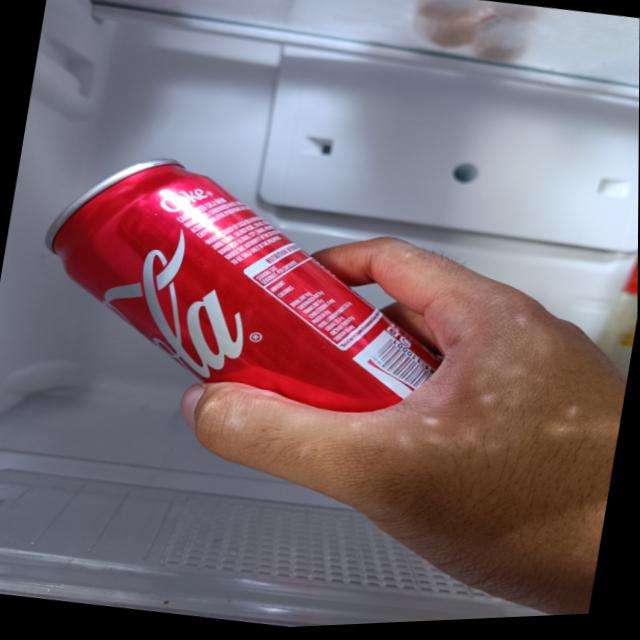coke: (28, 134, 493, 464)
